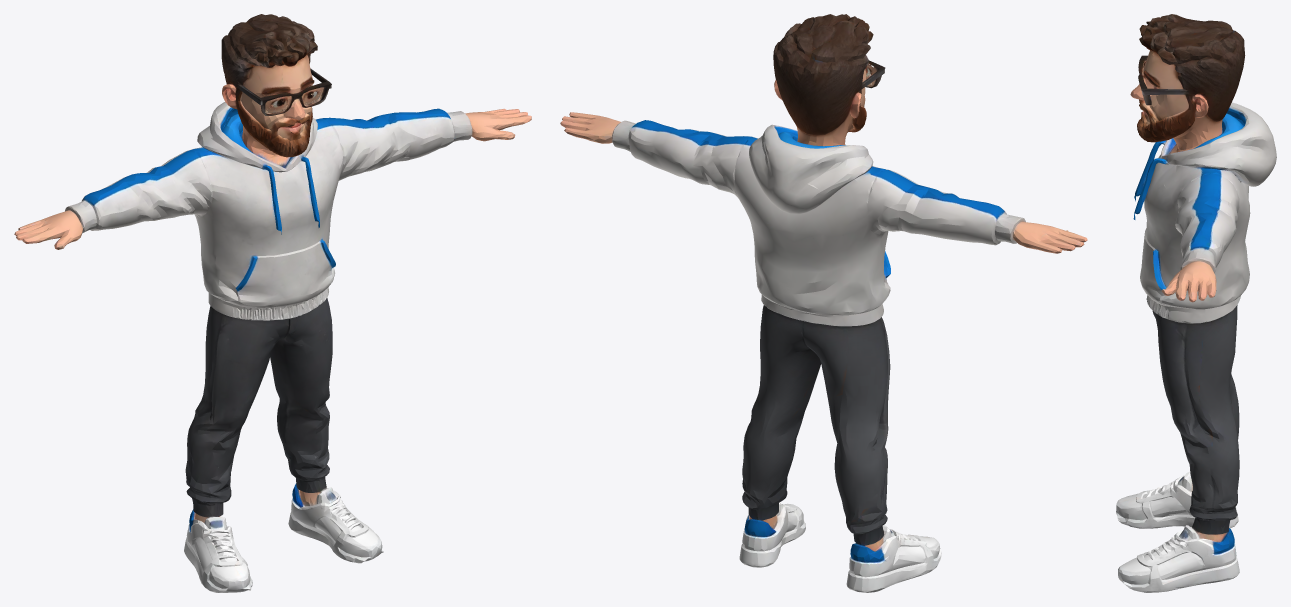
Rendered from runner.glb.
3 renders of one model, left to right at view 1: azimuth 30°, elevation 25°; view 2: azimuth 150°, elevation 25°; view 3: azimuth 270°, elevation 25°, orthographic.
Parts seen in each view (by area): view 1: model; view 2: model; view 3: model.
Boxes of the visible parts, x1,y1,x2,y2 form: model: (14, 14, 531, 592); model: (560, 14, 1087, 592); model: (1116, 14, 1276, 592).
Bounding box in the file's own units: 1.9 × 1.89 × 0.5161.
1 material, 1 textured.
